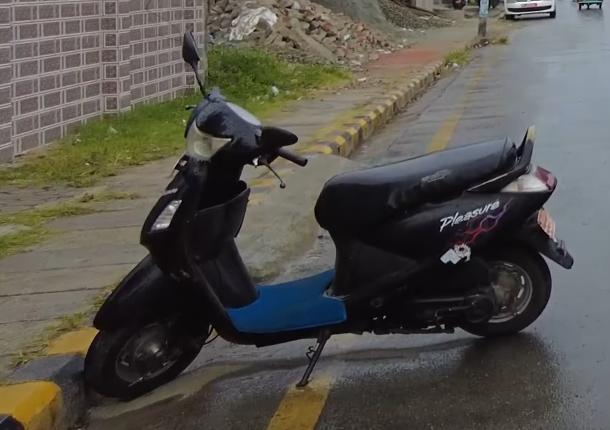scooter: (85, 27, 568, 397)
